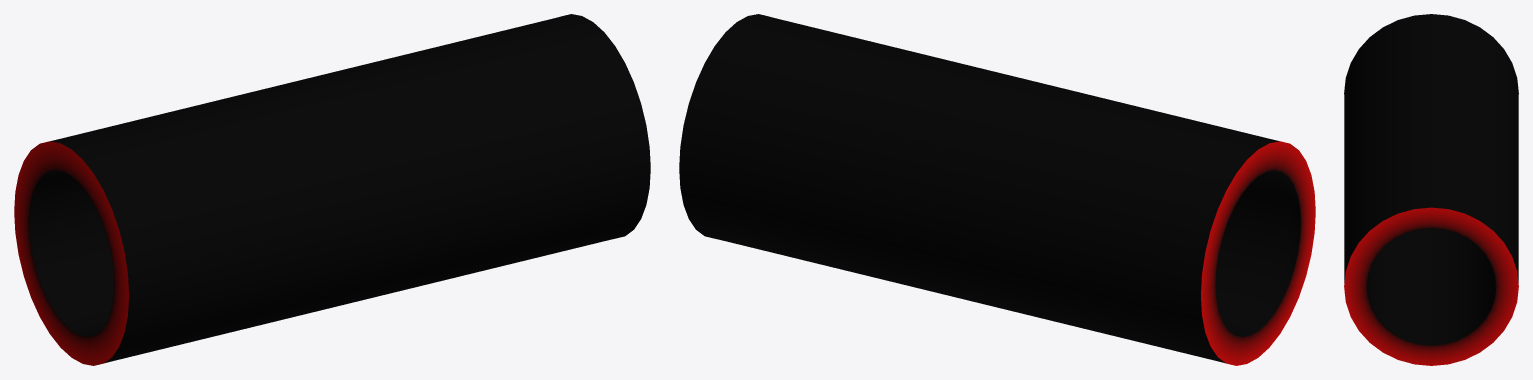
The model's file is Dungeon_Pipe_1m.FBX.
The picture shows the model from 3 angles, left to right: view 1: azimuth 30°, elevation 25°; view 2: azimuth 150°, elevation 25°; view 3: azimuth 270°, elevation 25°; orthographic projection. The views are drawn at different scales.
Parts seen in each view (by area): view 1: pipe_1m; view 2: pipe_1m; view 3: pipe_1m.
Boxes of the visible parts, box(x1,y1,x2,y2) form: pipe_1m: box(14, 14, 650, 365); pipe_1m: box(679, 14, 1315, 365); pipe_1m: box(1344, 14, 1518, 365).
Size of the model in its own units: 39.37 by 15.03 by 15.03.
